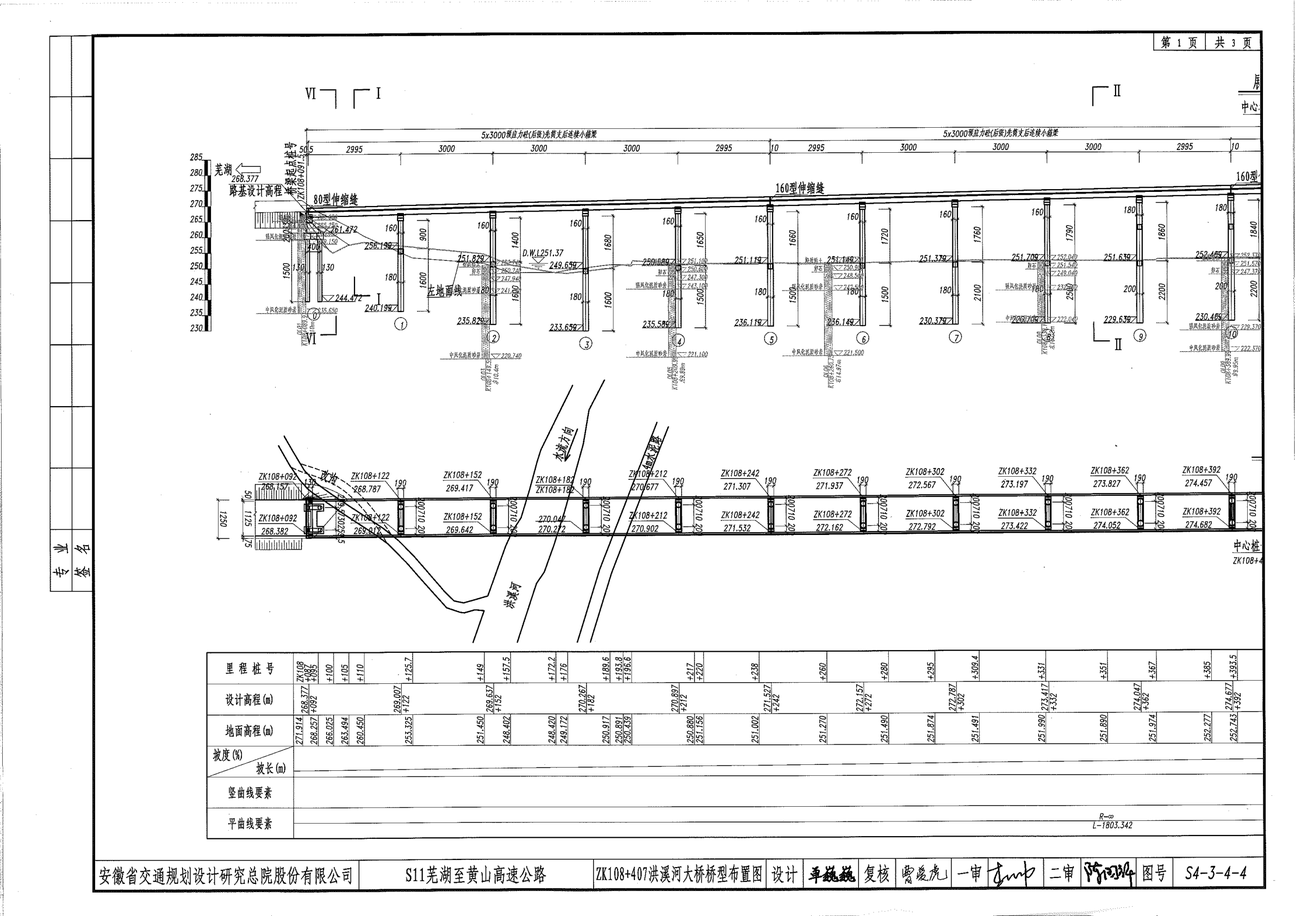A: (175, 71, 1272, 372)
